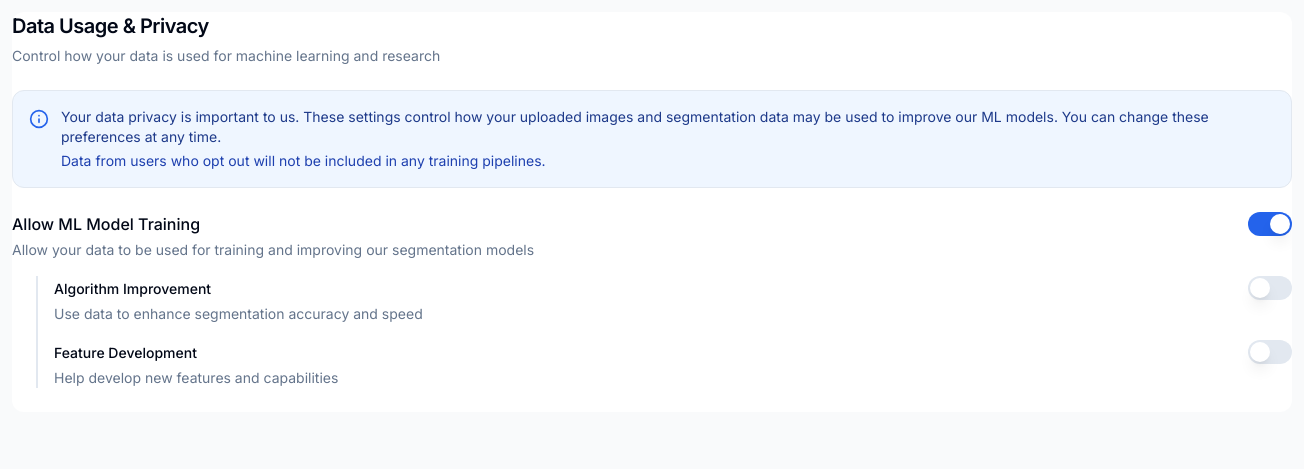
Test: ConsentSection › toggle interactions › enabling Feature Development sub-option forces ML training on
The image size is (1304, 469).
What coordinates should you click on to do the following:
click the switch named "feature development" in the row of "Feature Development"
I would click on:
 (1270, 352)
Its box is [1248,340,1292,364].
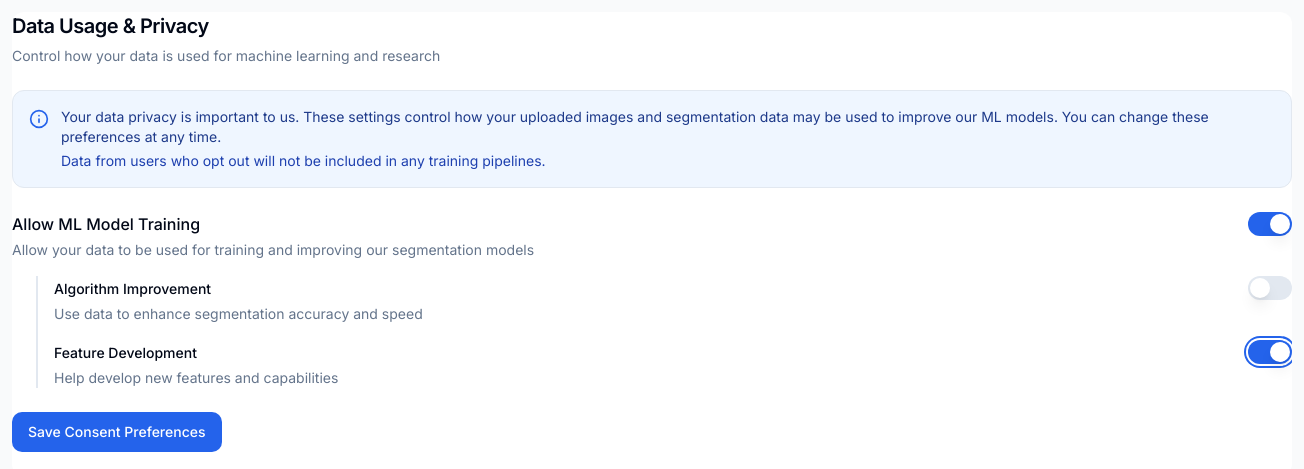
Expected: the switch named "allow ml model training" in the row of "Allow ML Model Training" is checked, [1248,212,1292,236]
Expected: the switch named "feature development" in the row of "Feature Development" is checked, [1248,340,1292,364]
